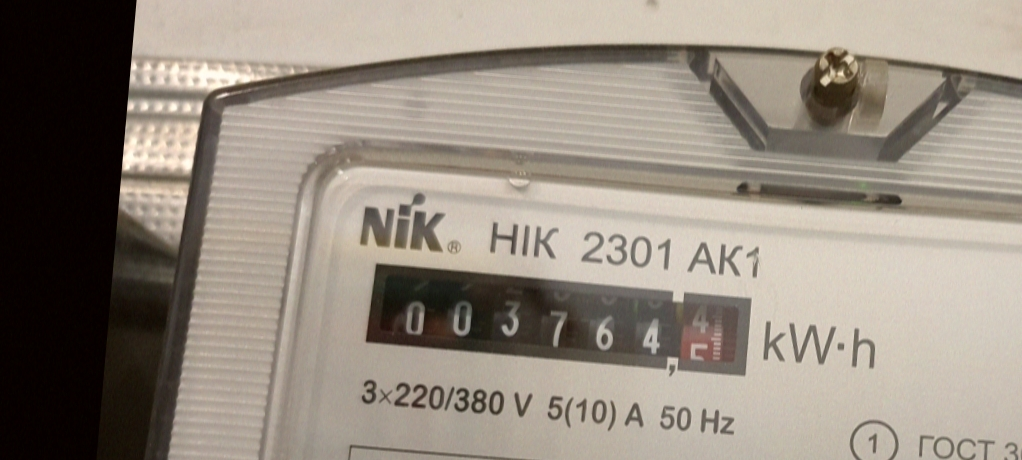0: (400, 297, 427, 336), (448, 297, 473, 338)
3: (496, 297, 522, 339)
4: (639, 315, 662, 356), (688, 301, 712, 335)
5: (685, 340, 709, 363)
6: (592, 312, 616, 352)
7: (543, 306, 570, 349)
screen: (349, 246, 767, 391)
